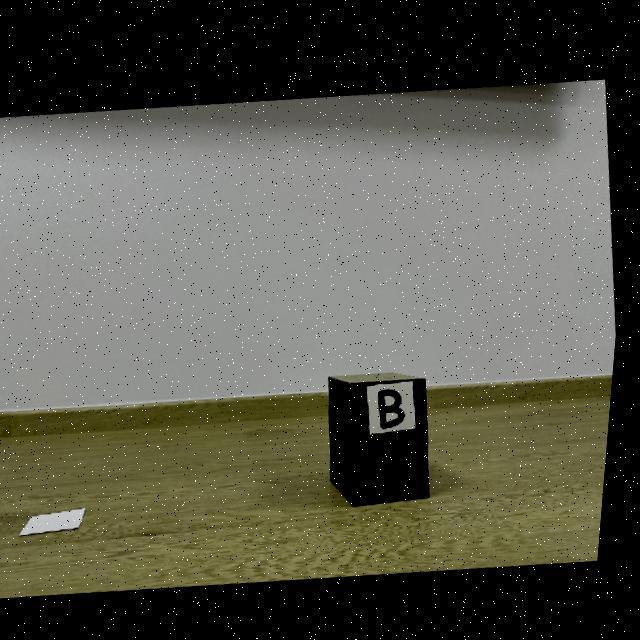B: (384, 383, 411, 423)
